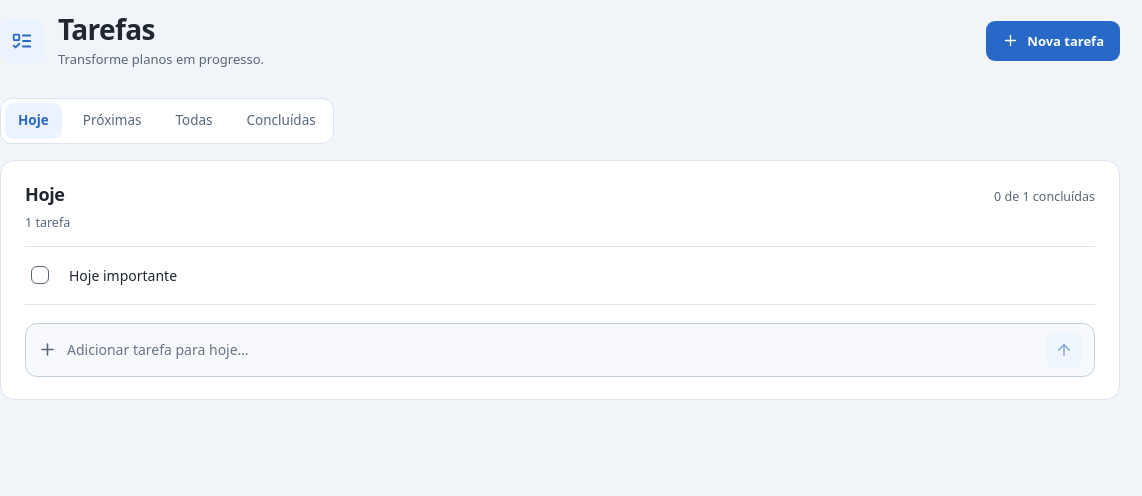
Test: preserva abas, abertura e criação rápida de tarefas na nova apresentação
Click the button "Hoje importante". click: coordinates (123, 275)
box: [65, 256, 1093, 295]
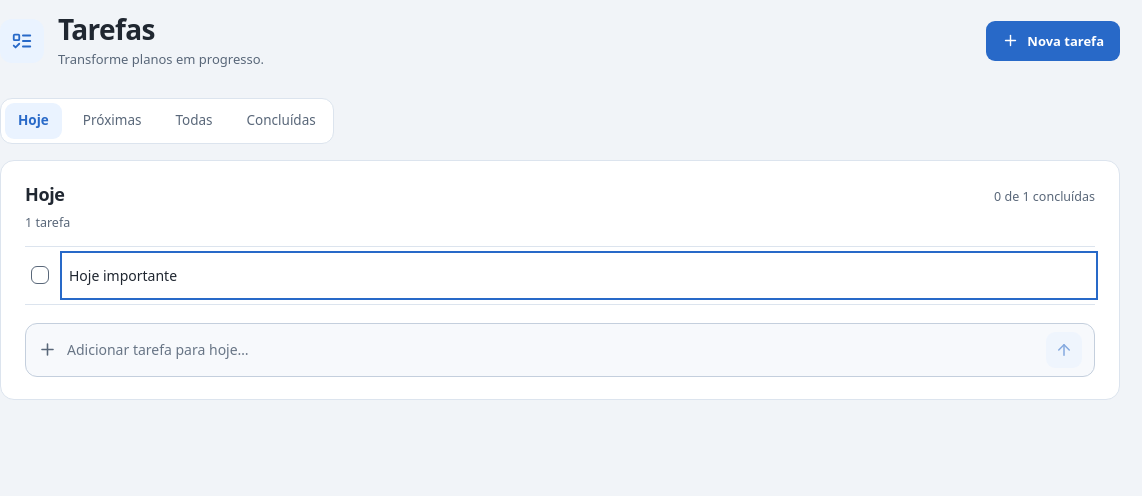
Click the button "Nova tarefa". click: coordinates (1053, 41)
box: [986, 21, 1120, 61]
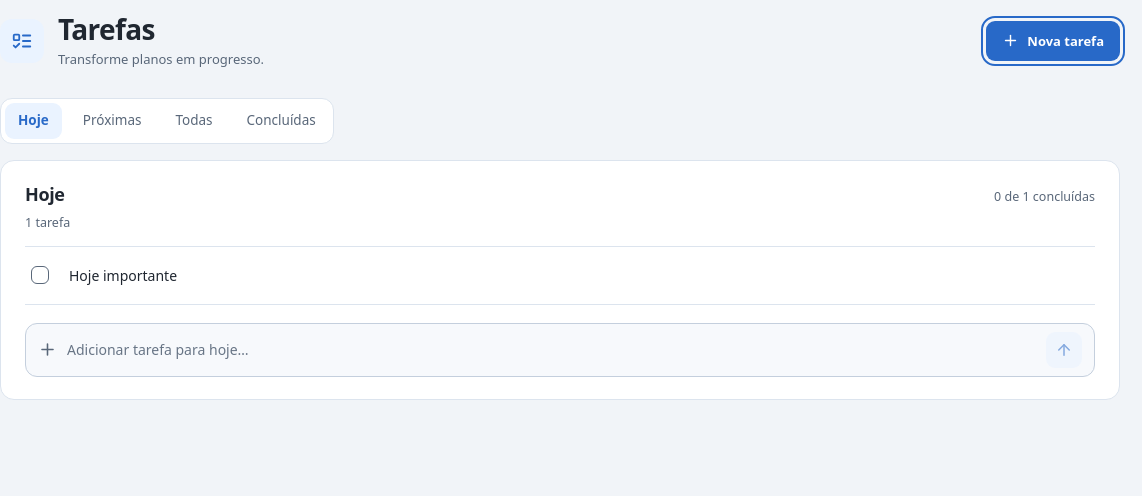
Type "Nova tarefa" into the field with placeholder "Adicionar tarefa para hoje…". click: coordinates (552, 350)
box: [67, 335, 1036, 365]
Then press Enter
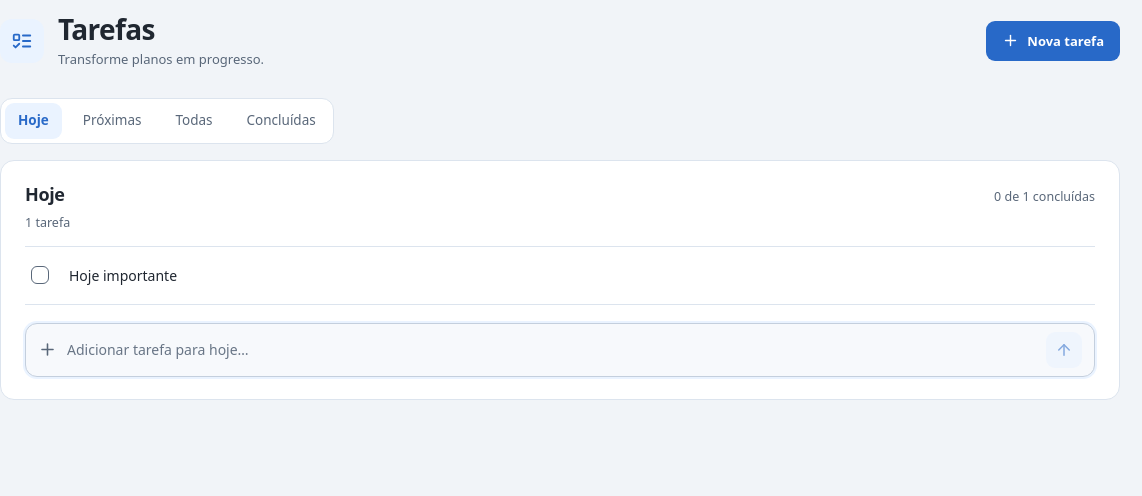
Click the button "Próximas". click: coordinates (112, 121)
box: [70, 103, 154, 139]
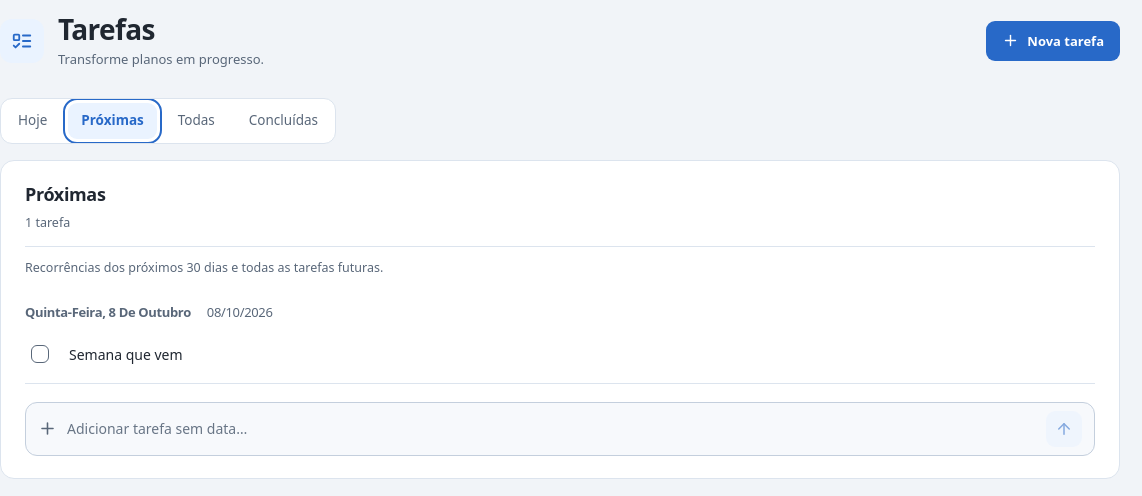
Expected: the text "Semana que vem" is shown, [69, 344, 183, 365]
